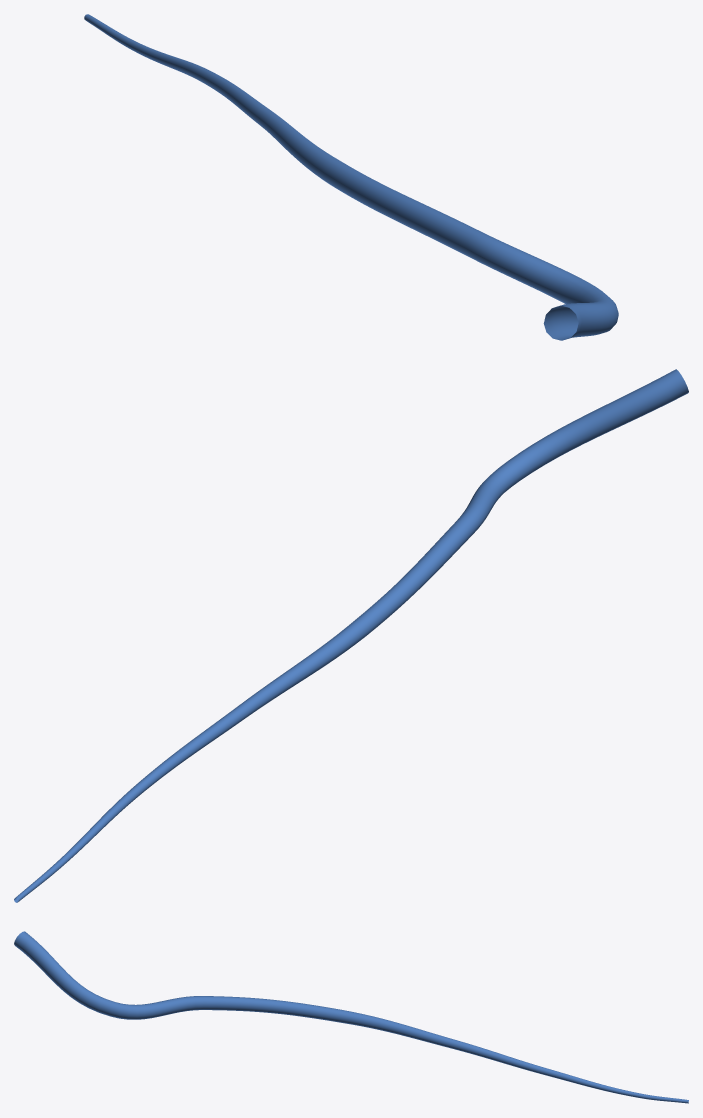
3 views of the same model, one above another, from view 1: azimuth 30°, elevation 25°; view 2: azimuth 150°, elevation 25°; view 3: azimuth 270°, elevation 25° (orthographic). The views are drawn at different scales.
Parts seen in each view (by area): view 1: 左侧胸背静脉; view 2: 左侧胸背静脉; view 3: 左侧胸背静脉.
Part boxes in pixels (x1,y1,x2,y2): 左侧胸背静脉: (84, 14, 618, 340); 左侧胸背静脉: (14, 369, 688, 902); 左侧胸背静脉: (14, 931, 688, 1103).
Size of the model in its own units: 0.0304 by 0.0345 by 0.1693.
